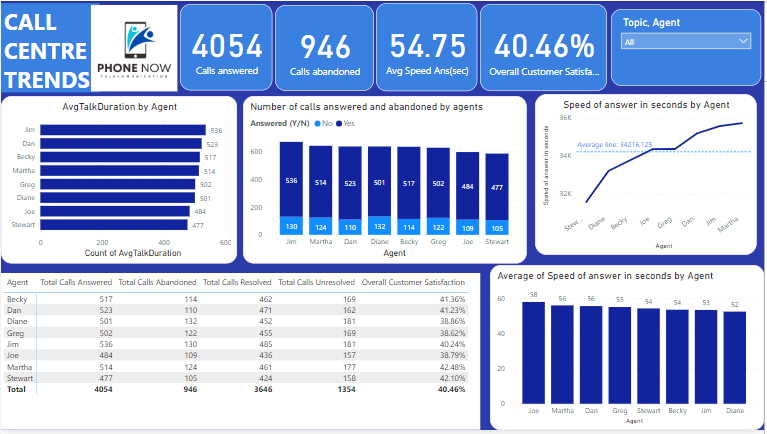

This screenshot's page, from the dashboard's own definition file:
{"tool":"powerbi","page":{"name":"Page 1","canvas":[1280,720],"ordinal":0},"visuals":[{"type":"card","fields":{"Values":["CountNonNull(Call.Call Id)"]},"box":[459.6,6.9,166,144.1],"z":0},{"type":"card","fields":{"Values":["CountNonNull(Call.Call Id)"]},"box":[300.5,5.5,155,145.4],"z":1000},{"type":"columnChart","title":"Number of calls answered and abandoned by agents","fields":{"Y":["CountNonNull(Call.Call Id)"],"Category":["Agent.Agent"],"Series":["Fact.Answered (Y/N)"]},"box":[407.7,161,488.2,281.8],"z":2000},{"type":"textbox","box":[0,4.1,164.6,149.5],"z":3000},{"type":"clusteredColumnChart","fields":{"Y":["Avg(Fact.Speed of answer in seconds)"],"Category":["Fact.Agent"]},"box":[820.1,446.9,451.8,265.2],"z":4000},{"type":"barChart","title":" AvgTalkDuration by Agent","fields":{"Category":["Fact.Agent"],"Y":["CountNonNull(Fact.AvgTalkDuration)"]},"box":[11.5,158.8,384.7,281.5],"z":5000},{"type":"card","fields":{"Values":["Avg(Fact.Speed of answer in seconds)"]},"box":[629.7,4.1,170.1,148.2],"z":6000},{"type":"card","fields":{"Values":["Fact.Overall Customer Satisfaction"]},"box":[803.6,5,213.1,146],"z":7000},{"type":"lineChart","fields":{"Category":["Agent.Agent"],"Y":["Sum(Fact.Speed of answer in seconds)"]},"box":[902.5,164.4,372.4,270.1],"z":8000},{"type":"image","box":[141.3,1.4,164.6,155],"z":9000},{"type":"pivotTable","fields":{"Rows":["Agent.Agent"],"Values":["Call.Total Calls Answered","Call.Total Calls Abandoned","Fact.Total Calls Resolved","Fact.Total Calls Unresolved","Fact.Overall Customer Satisfaction"]},"box":[11.5,456.7,792.2,247.2],"z":10000},{"type":"slicer","fields":{"Values":["Fact.Topic"]},"box":[1020,6.7,248.3,72.1],"z":11000},{"type":"slicer","fields":{"Values":["Call.Time"]},"box":[1020,83.9,251.6,68.8],"z":11001}]}

Visuals, with their boxes in screenshot pixels (x1, y1, x2, y2), scaled from the page's 1280x720 canvas onto the 767x434 screenshot:
card - CountNonNull(Call.Call Id): x1=275 y1=4 x2=375 y2=91
card - CountNonNull(Call.Call Id): x1=180 y1=3 x2=273 y2=91
"Number of calls answered and abandoned by agents" columnChart: x1=244 y1=97 x2=537 y2=267
textbox: x1=0 y1=2 x2=99 y2=93
clusteredColumnChart - Avg(Fact.Speed of answer in seconds) x Fact.Agent: x1=491 y1=269 x2=762 y2=429
" AvgTalkDuration by Agent" barChart: x1=7 y1=96 x2=237 y2=265
card - Avg(Fact.Speed of answer in seconds): x1=377 y1=2 x2=479 y2=92
card - Fact.Overall Customer Satisfaction: x1=482 y1=3 x2=609 y2=91
lineChart - Agent.Agent x Sum(Fact.Speed of answer in seconds): x1=541 y1=99 x2=764 y2=262
image: x1=85 y1=1 x2=183 y2=94
pivotTable - Agent.Agent x Call.Total Calls Answered: x1=7 y1=275 x2=482 y2=424
slicer - Fact.Topic: x1=611 y1=4 x2=760 y2=47
slicer - Call.Time: x1=611 y1=51 x2=762 y2=92
